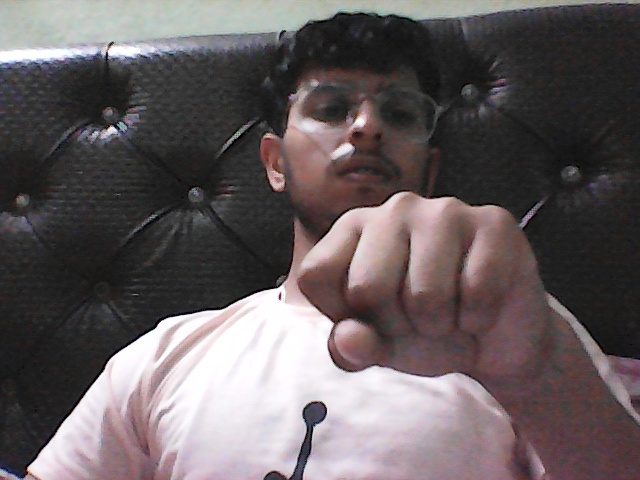yes: (247, 199, 601, 398)
